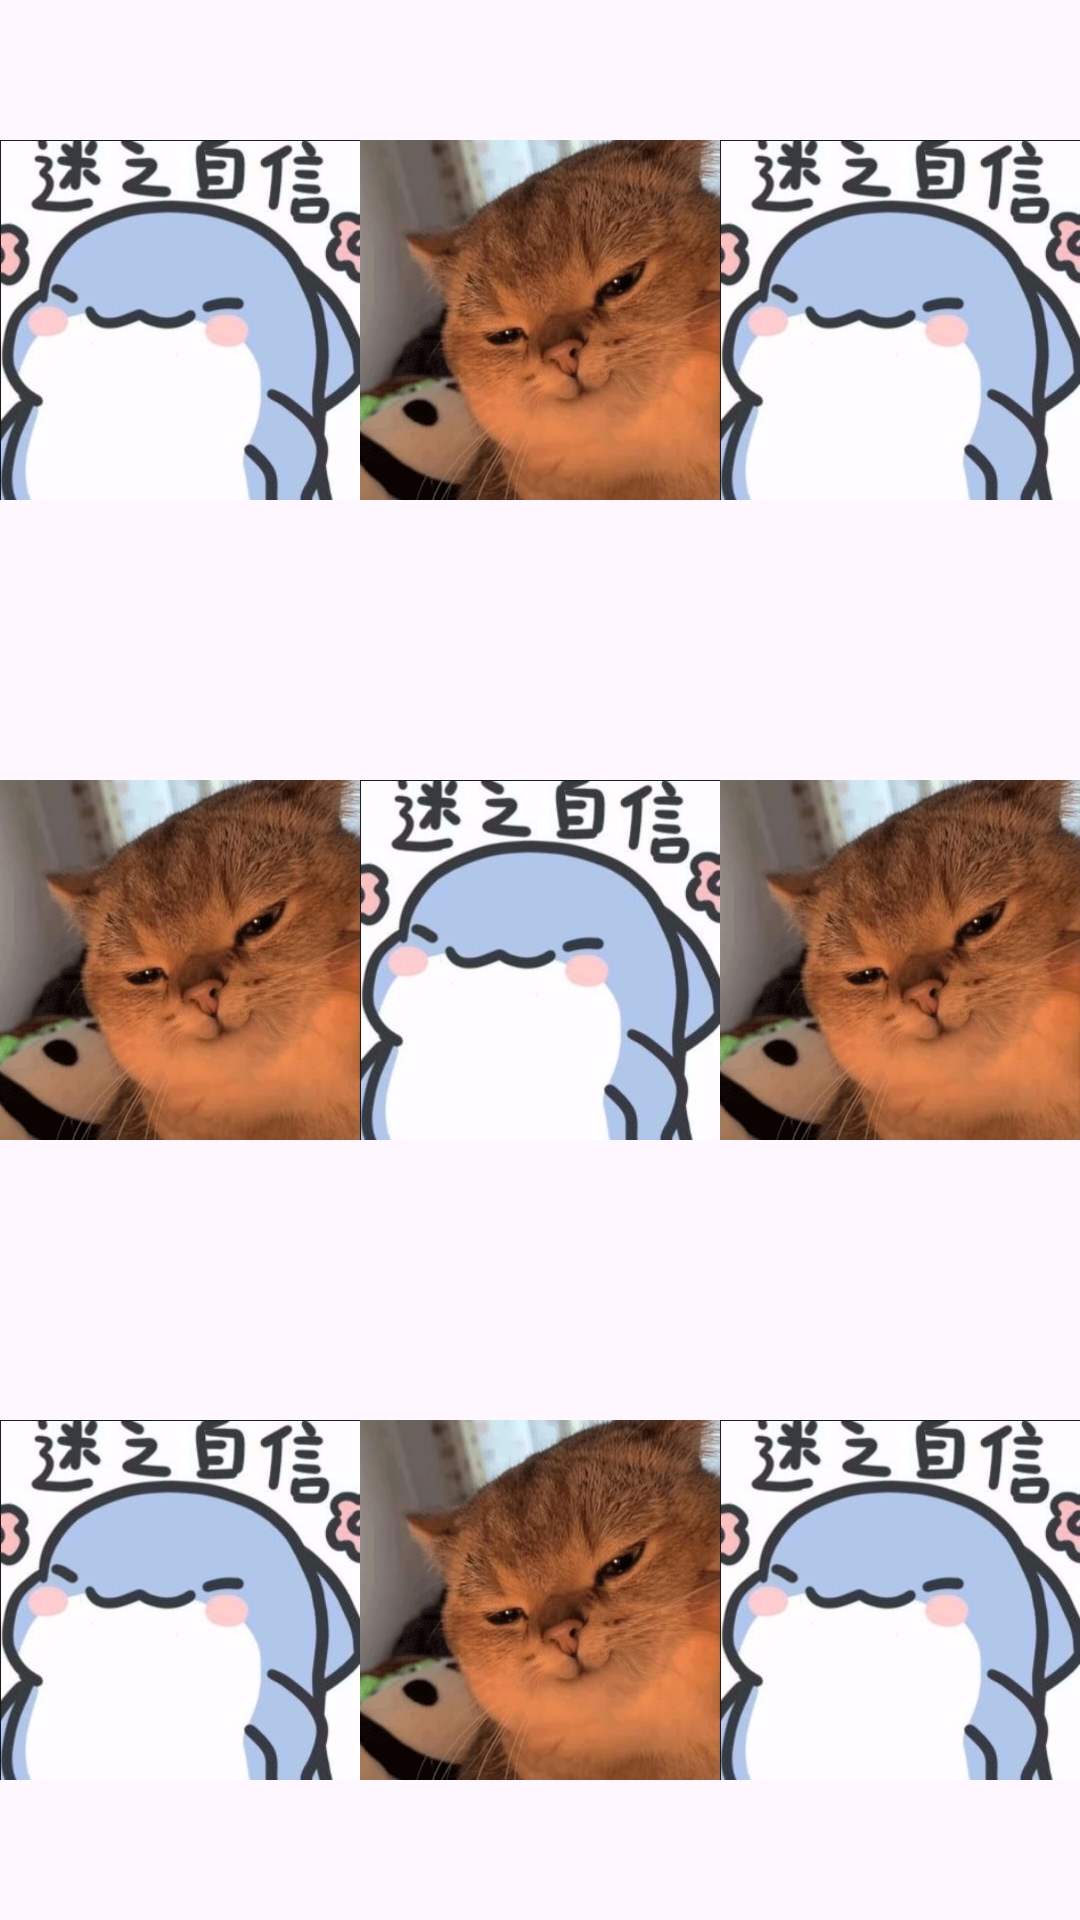

Icon click points for this 1080px x 1920px phone screenshot, format [x,y]:
cat: [540,320], [180,960], [900,960], [540,1600]
shark: [180,320], [900,320], [540,960], [180,1600], [900,1600]
